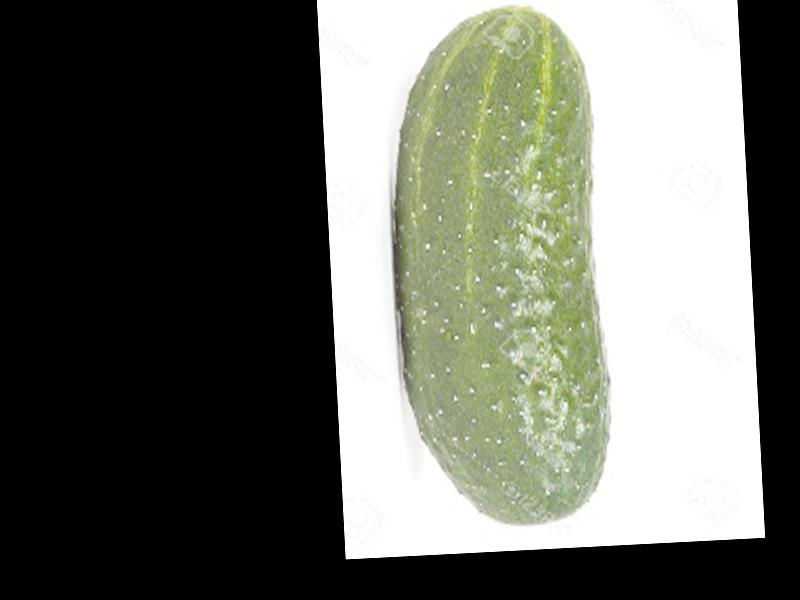Cucumber: (381, 1, 612, 531)
